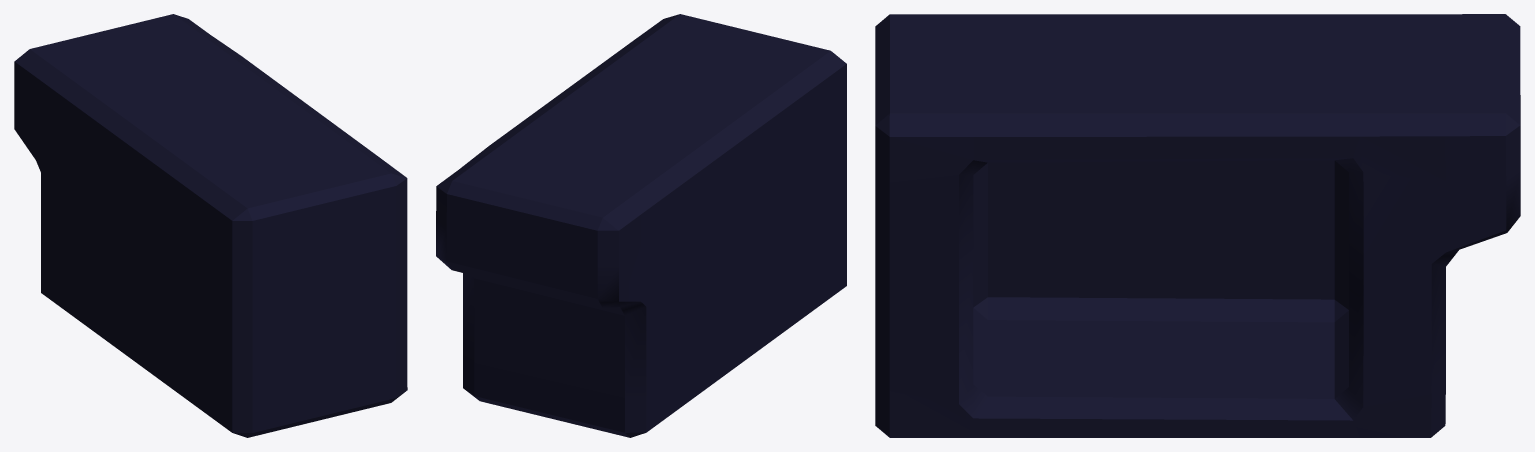
3 renders of one model, left to right at view 1: azimuth 30°, elevation 25°; view 2: azimuth 150°, elevation 25°; view 3: azimuth 270°, elevation 25°, orthographic. The views are drawn at different scales.
Parts seen in each view (by area): view 1: Box006; view 2: Box006; view 3: Box006.
Boxes of the visible parts, x1,y1,x2,y2 form: Box006: (14,14,407,437); Box006: (436,14,846,437); Box006: (875,14,1520,437).
Bounding box in the file's own units: 24.37 × 29.99 × 54.04.
